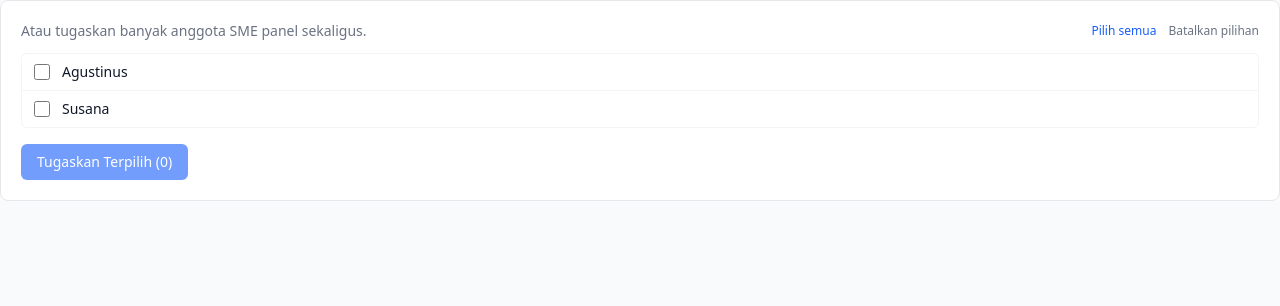
it: AssignRespondenBanyak (Task Inventory) › menampilkan alasan skip berlabel Bahasa Indonesia
Click the checkbox labelled "Agustinus": (42, 72) [34, 64, 50, 80]
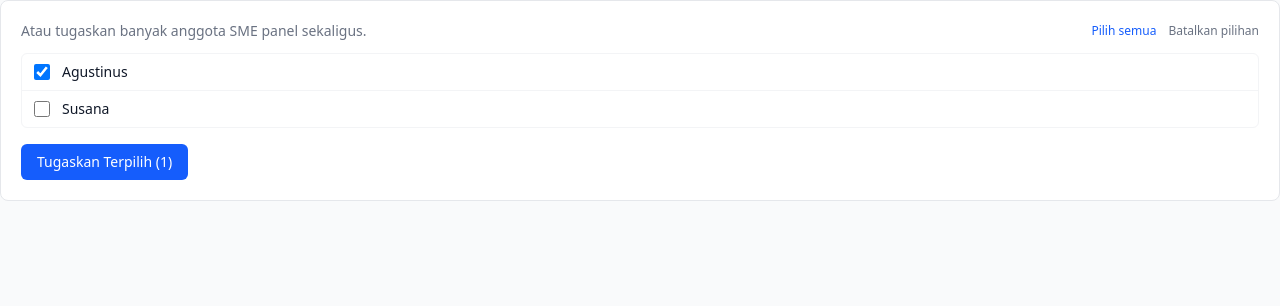
Click the button "Tugaskan Terpilih (1)": (105, 162) [21, 144, 188, 180]
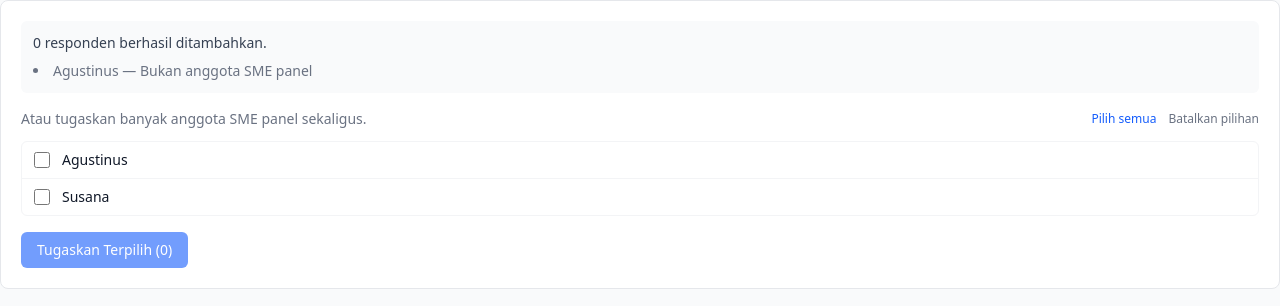
Expected: the list item "Agustinus — Bukan anggota SME panel" is shown, [53, 61, 312, 80]
